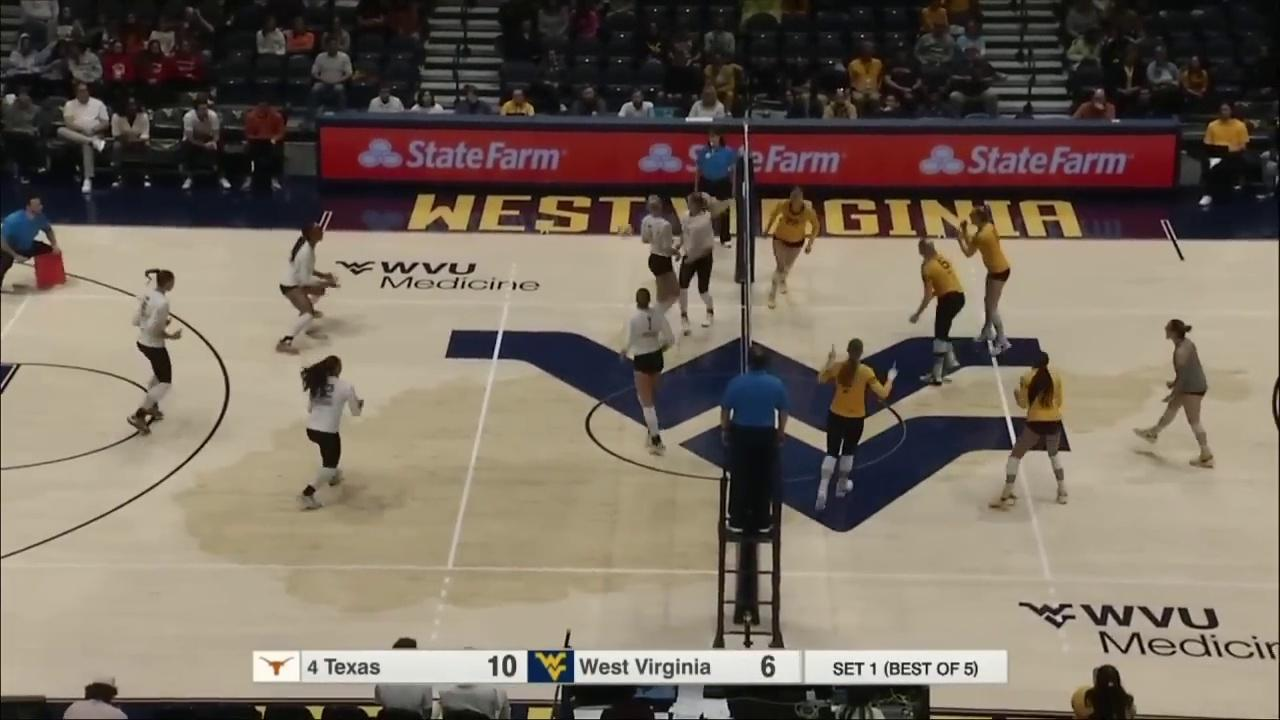player: (813, 339, 897, 511), (991, 351, 1070, 510), (1131, 321, 1215, 469), (296, 355, 365, 505), (618, 289, 677, 455), (128, 267, 181, 430), (953, 205, 1011, 352), (276, 221, 339, 352), (763, 185, 823, 309), (675, 191, 724, 335), (917, 239, 965, 382), (640, 194, 681, 347)
refree: (721, 345, 787, 531), (0, 197, 66, 296), (694, 130, 737, 245)
